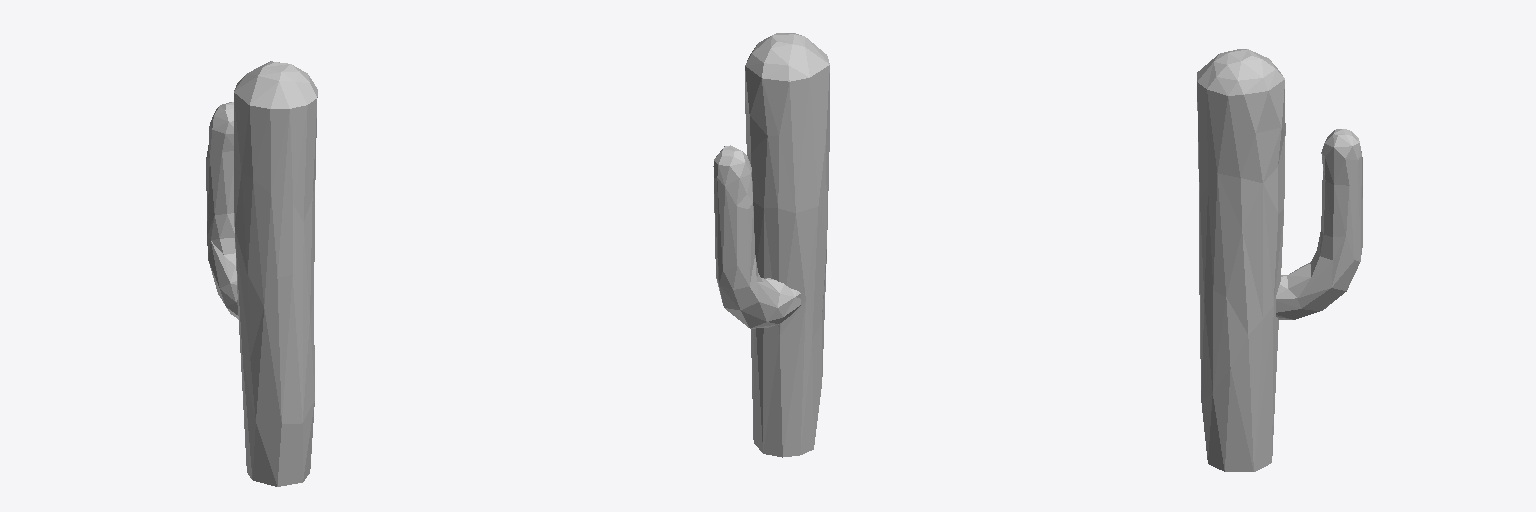
Rendered from Cactus01_new.obj.
3 renders of one model, left to right at view 1: azimuth 30°, elevation 25°; view 2: azimuth 150°, elevation 25°; view 3: azimuth 270°, elevation 25°, orthographic.
Parts seen in each view (by area): view 1: Cylinder, Cylinder.002; view 2: Cylinder, Cylinder.002; view 3: Cylinder, Cylinder.002.
Part boxes in pixels (x1,y1,x2,y2): Cylinder: (234,61,317,486); Cylinder.002: (206,102,238,319); Cylinder: (745,33,829,457); Cylinder.002: (713,145,800,328); Cylinder: (1197,49,1285,471); Cylinder.002: (1276,129,1362,319).
Bounding box in the file's own units: 0.3673 × 1.97 × 0.7317.